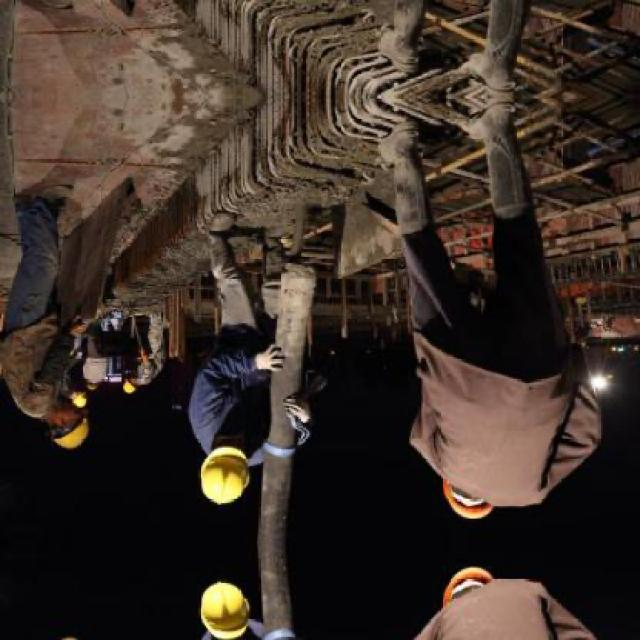con casco: (422, 442, 534, 524), (188, 432, 282, 508), (28, 376, 101, 459)
